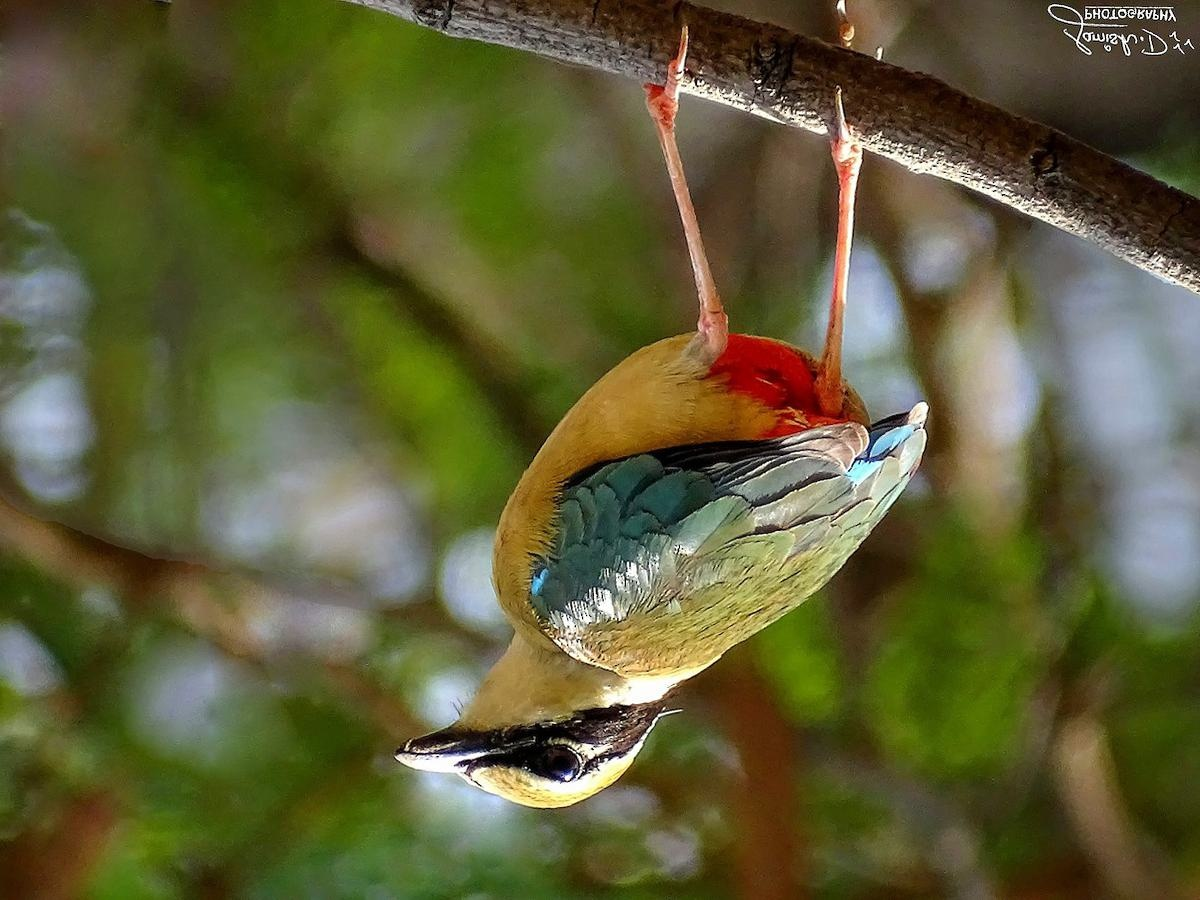pitta: (393, 195, 929, 842)
